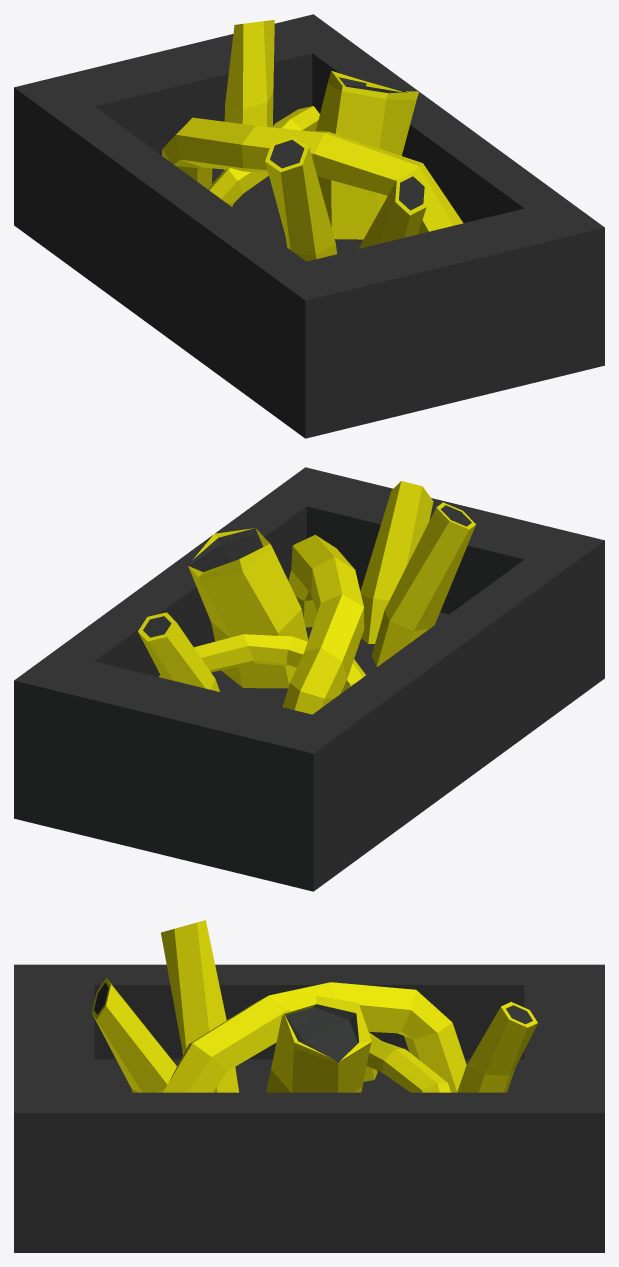
The model's file is ExposedWires.fbx.
The picture shows the model from 3 angles, top to bottom: view 1: azimuth 30°, elevation 25°; view 2: azimuth 150°, elevation 25°; view 3: azimuth 270°, elevation 25°; orthographic projection.
Visible parts, largest first — view 1: Cylinder.005; view 2: Cylinder.005; view 3: Cylinder.005.
Part boxes in pixels (x1,y1,x2,y2): Cylinder.005: [14, 14, 604, 438]; Cylinder.005: [14, 467, 604, 891]; Cylinder.005: [14, 920, 604, 1252].
Bounding box in the file's own units: 28.59 × 19.86 × 48.17.
